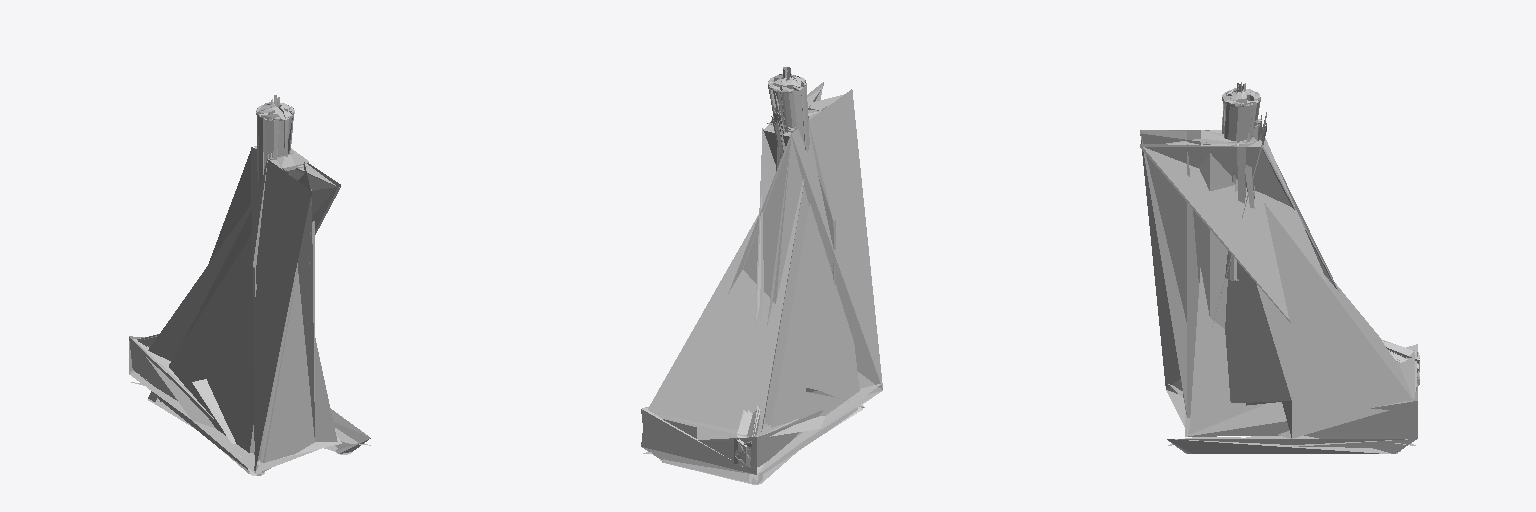
File: pendulum0007.obj
3 views of the same model, side by side, from view 1: azimuth 30°, elevation 25°; view 2: azimuth 150°, elevation 25°; view 3: azimuth 270°, elevation 25° (orthographic).
Visible parts, largest first — view 1: node0, node5, node4; view 2: node0, node5, node8; view 3: node0, node5, node4, node2.
Boxes of the visible parts, x1,y1,x2,y2 form: node0: [129, 147, 370, 475]; node5: [253, 105, 294, 297]; node4: [257, 102, 293, 156]; node0: [641, 82, 882, 484]; node5: [768, 76, 835, 284]; node8: [734, 406, 760, 467]; node0: [1140, 130, 1417, 453]; node5: [1222, 89, 1260, 183]; node4: [1222, 88, 1254, 281]; node2: [1224, 82, 1257, 203].
Size of the model in its own units: 11.99 by 34.18 by 25.02.